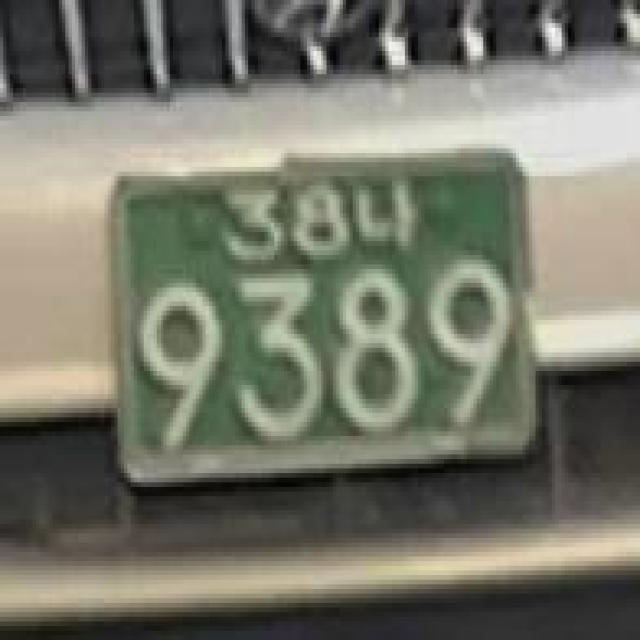illegal_plate: (95, 132, 550, 516)
